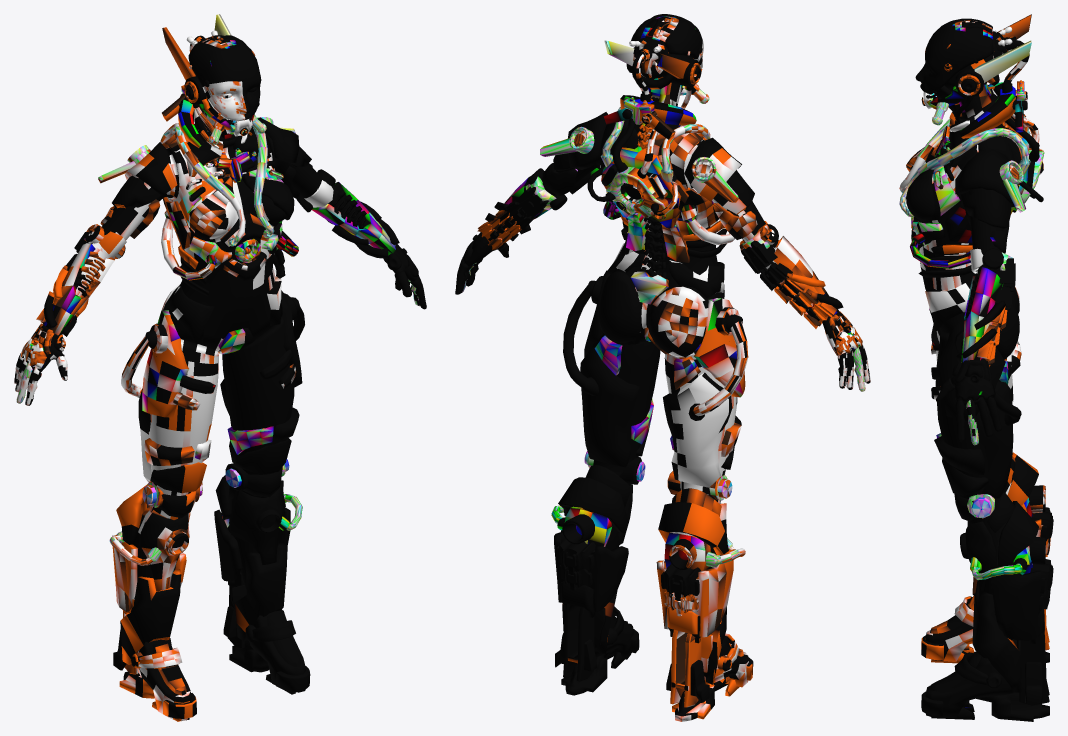
Rendered from Rusher_All_Module.FBX.
The picture shows the model from 3 angles, left to right: view 1: azimuth 30°, elevation 25°; view 2: azimuth 150°, elevation 25°; view 3: azimuth 270°, elevation 25°; orthographic projection.
Visible parts, largest first — view 1: JBase_low_SeamsColor, Base_low_SeamsColor, JModuleavant_low_SeamsColor, J08_low_SeamsColor, Th1Skin_low_SeamsColor, JPlaquehaut_low_SeamsColor, Avantbras_low_SeamsColor, Bras_low_SeamsColor, JModulearrieretibia_low_SeamsColor, FootBase_low_SeamsColor, J01_low_SeamsColor, Epaule02_low_SeamsColor (+32 smaller); view 2: J02_low_SeamsColor, Fesses_low_SeamsColor, JModulearriere_low_SeamsColor, Arm_01_low, JModulearrieretibia_low_SeamsColor, JBase_low_SeamsColor, J04_low_SeamsColor, Legs_low, JTube01_low_SeamsColor, JPlaquehaut_low_SeamsColor, Epaule02_low_SeamsColor, Base_low_SeamsColor (+34 smaller); view 3: Th1Skin_low_SeamsColor, JModulearrieretibia_low_SeamsColor, FootBase_low_SeamsColor, JModuleavant_low_SeamsColor, J04_low_SeamsColor, Base_low_SeamsColor, J02_low_SeamsColor, Tubetorse01_low_SeamsColor, JBase_low_SeamsColor, JModulearriere_low_SeamsColor, Avantbras_low_SeamsColor, Epaule02_low_SeamsColor (+54 smaller).
Boxes of the visible parts, x1=… form: JBase_low_SeamsColor: x1=133, y1=315, x2=294, y2=589; Base_low_SeamsColor: x1=166, y1=124, x2=286, y2=351; JModuleavant_low_SeamsColor: x1=120, y1=542, x2=287, y2=664; J08_low_SeamsColor: x1=139, y1=480, x2=284, y2=591; Th1Skin_low_SeamsColor: x1=188, y1=35, x2=261, y2=121; JPlaquehaut_low_SeamsColor: x1=142, y1=290, x2=302, y2=417; Avantbras_low_SeamsColor: x1=43, y1=182, x2=395, y2=335; Bras_low_SeamsColor: x1=75, y1=132, x2=367, y2=296; JModulearrieretibia_low_SeamsColor: x1=112, y1=507, x2=290, y2=611; FootBase_low_SeamsColor: x1=137, y1=610, x2=305, y2=721; J01_low_SeamsColor: x1=150, y1=438, x2=291, y2=493; Epaule02_low_SeamsColor: x1=125, y1=117, x2=299, y2=195; J02_low_SeamsColor: x1=580, y1=346, x2=732, y2=487; Fesses_low_SeamsColor: x1=598, y1=271, x2=708, y2=357; JModulearriere_low_SeamsColor: x1=555, y1=604, x2=713, y2=707; Arm_01_low: x1=477, y1=186, x2=836, y2=328; JModulearrieretibia_low_SeamsColor: x1=554, y1=530, x2=733, y2=637; JBase_low_SeamsColor: x1=583, y1=329, x2=737, y2=568; J04_low_SeamsColor: x1=558, y1=477, x2=728, y2=555; Legs_low: x1=556, y1=539, x2=708, y2=616; JTube01_low_SeamsColor: x1=563, y1=280, x2=748, y2=420; JPlaquehaut_low_SeamsColor: x1=584, y1=270, x2=745, y2=397; Epaule02_low_SeamsColor: x1=567, y1=112, x2=741, y2=201; Base_low_SeamsColor: x1=613, y1=120, x2=724, y2=350; Th1Skin_low_SeamsColor: x1=915, y1=18, x2=993, y2=94; JModulearrieretibia_low_SeamsColor: x1=990, y1=519, x2=1043, y2=640; FootBase_low_SeamsColor: x1=925, y1=622, x2=1013, y2=718; JModuleavant_low_SeamsColor: x1=972, y1=577, x2=1021, y2=692; J04_low_SeamsColor: x1=997, y1=452, x2=1038, y2=566; Base_low_SeamsColor: x1=910, y1=118, x2=1004, y2=350; J02_low_SeamsColor: x1=976, y1=353, x2=1013, y2=498; Tubetorse01_low_SeamsColor: x1=899, y1=116, x2=1030, y2=217; JBase_low_SeamsColor: x1=935, y1=331, x2=1013, y2=640; JModulearriere_low_SeamsColor: x1=1017, y1=609, x2=1049, y2=705; Avantbras_low_SeamsColor: x1=961, y1=267, x2=1002, y2=362; Epaule02_low_SeamsColor: x1=955, y1=149, x2=1018, y2=207.
Size of the model in its own units: 47.89 by 74.27 by 15.6.
